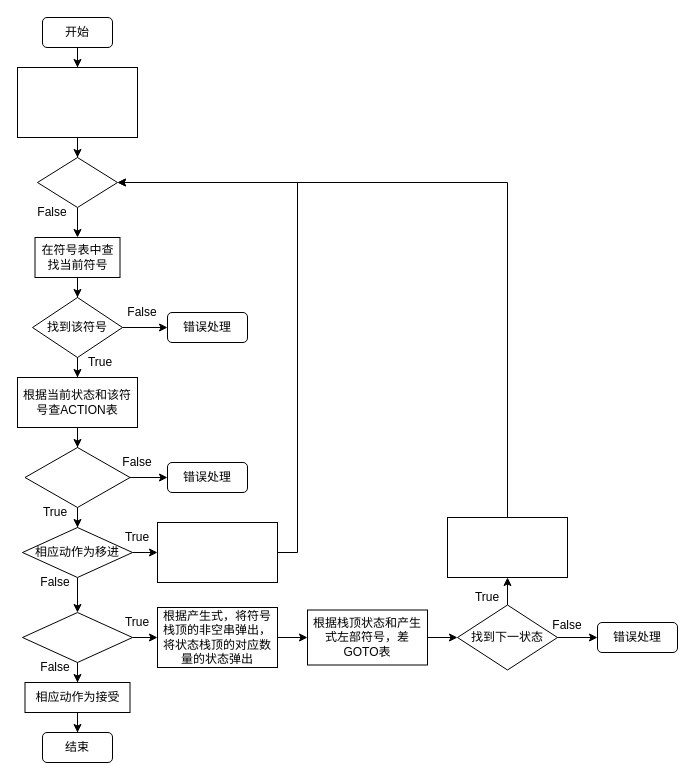
Some shapes in this 695 by 780 pixel diagram are drawn without their labels. Each missing label, with the box of its shape:
初始化栈，从起始位置遍历词法分析输出token_stream的每一个符号: (16, 66, 138, 138)
将产生式左部符号和GOTO表项对应的状态分别压入符号栈和状态栈: (446, 516, 568, 578)
将该符号压入符号栈，将相应动作对应的状态压入状态栈: (156, 522, 278, 582)
找到相应动作: (24, 446, 130, 508)
相应动作为规约: (22, 612, 132, 662)
遍历结束: (36, 156, 118, 208)
